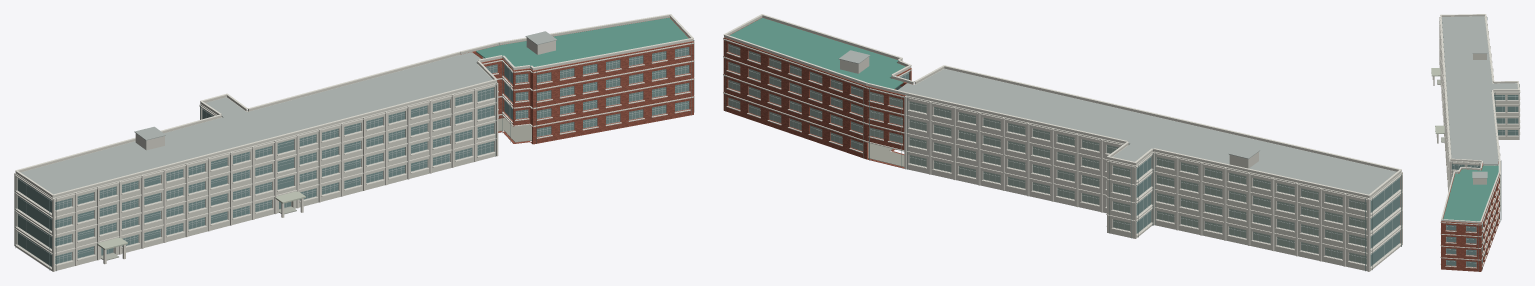
3 renders of one model, left to right at view 1: azimuth 30°, elevation 25°; view 2: azimuth 150°, elevation 25°; view 3: azimuth 270°, elevation 25°, orthographic. The views are drawn at different scales.
Parts seen in each view (by area): view 1: main__wall, main__glass, main__trim, main__greyroof, main__brick, main__frame, main__roof, main__metal, main__slab, main__entry; view 2: main__wall, main__trim, main__greyroof, main__sideglass, main__brick, main__frame, main__roof, main__glass, main__metal, main__slab; view 3: main__greyroof, main__trim, main__brick, main__roof, main__wall, main__glass, main__frame, main__metal, main__entry, main__sideglass.
Part boxes in pixels (left/top/right/bottom): main__wall: left=15, top=15, right=693, bottom=271; main__glass: left=17, top=47, right=688, bottom=266; main__trim: left=14, top=14, right=694, bottom=271; main__greyroof: left=21, top=31, right=556, bottom=194; main__brick: left=460, top=17, right=693, bottom=144; main__frame: left=17, top=47, right=689, bottom=266; main__roof: left=476, top=17, right=688, bottom=67; main__metal: left=15, top=40, right=694, bottom=270; main__slab: left=102, top=118, right=531, bottom=255; main__entry: left=97, top=191, right=305, bottom=249; main__wall: left=724, top=16, right=1401, bottom=271; main__trim: left=723, top=14, right=1402, bottom=271; main__greyroof: left=839, top=50, right=1396, bottom=194; main__sideglass: left=728, top=44, right=1366, bottom=263; main__brick: left=723, top=17, right=913, bottom=168; main__frame: left=728, top=44, right=1400, bottom=266; main__roof: left=729, top=18, right=905, bottom=89; main__glass: left=896, top=72, right=1399, bottom=266; main__metal: left=725, top=39, right=1401, bottom=271; main__slab: left=868, top=143, right=904, bottom=166; main__greyroof: left=1442, top=16, right=1517, bottom=178; main__trim: left=1432, top=14, right=1520, bottom=268; main__brick: left=1441, top=161, right=1499, bottom=271; main__roof: left=1443, top=165, right=1498, bottom=221; main__wall: left=1441, top=15, right=1519, bottom=223; main__glass: left=1442, top=22, right=1518, bottom=266; main__frame: left=1446, top=95, right=1517, bottom=267; main__metal: left=1449, top=17, right=1519, bottom=271; main__entry: left=1431, top=68, right=1444, bottom=133; main__sideglass: left=1481, top=181, right=1498, bottom=263.
Size of the model in its own units: 133 by 16.58 by 24.2.
13 materials, 1 textured.
